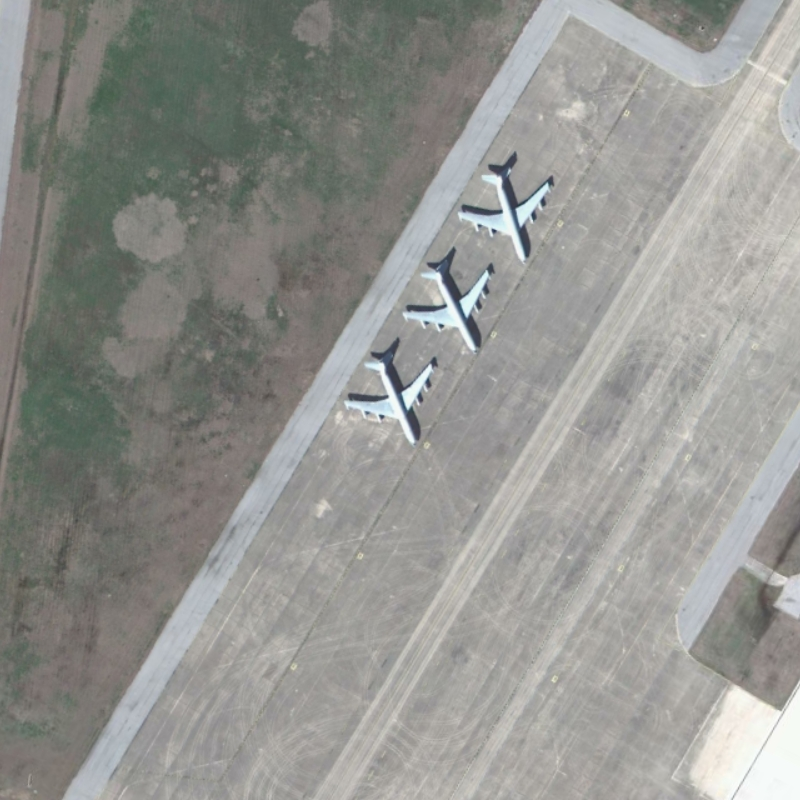A11: (394, 248, 502, 362), (454, 155, 560, 265), (341, 347, 444, 449)
